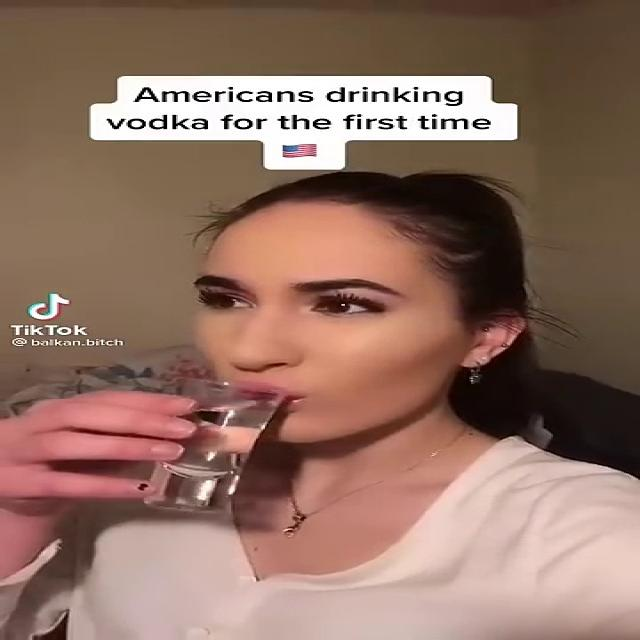Cup: (136, 377, 283, 516)
Hand: (0, 386, 197, 514)
Mouth: (219, 374, 316, 414)
